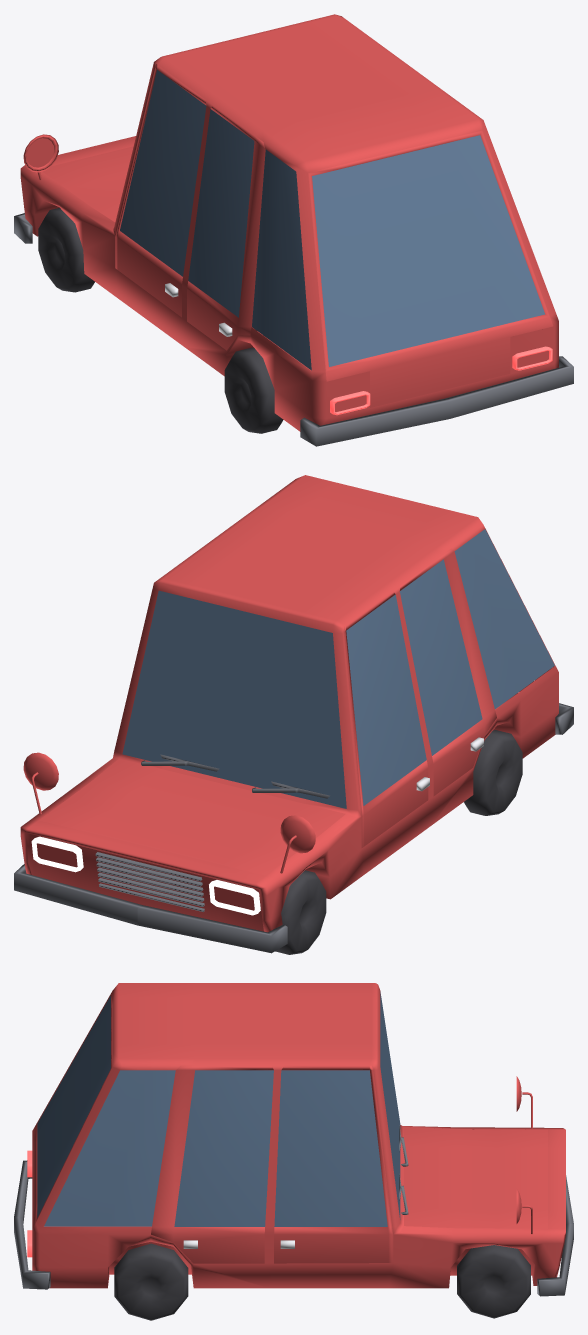
Rendered from cv-estate.glb.
The picture shows the model from 3 angles, top to bottom: view 1: azimuth 30°, elevation 25°; view 2: azimuth 150°, elevation 25°; view 3: azimuth 270°, elevation 25°; orthographic projection. The views are drawn at different scales.
Visible parts, largest first — view 1: CarMesh, WIndow, ID454, Window.3, Window.2, WindowBack, BumperBack, ID373, WheelRL, Hood, ID400, WheelFL (+1 smaller); view 2: CarMesh, WindowFront, Hood, Window.3, Window.2, WindowBack, BumperFront, ID373, Grille, ID400, WheelRL, WheelFL (+6 smaller); view 3: CarMesh, Window.4, Hood, Window, WindowBack, ID346, WIndow, ID427, WheelRR, WheelRR.2, WindowFront, BumperBack (+2 smaller).
Boxes of the visible parts, bbox=[...] form: CarMesh: bbox=[20, 14, 558, 431]; WIndow: bbox=[312, 135, 544, 366]; ID454: bbox=[308, 130, 553, 407]; Window.3: bbox=[120, 70, 206, 276]; Window.2: bbox=[188, 109, 254, 317]; WindowBack: bbox=[252, 149, 311, 370]; BumperBack: bbox=[300, 356, 573, 446]; ID373: bbox=[187, 105, 265, 350]; WheelRL: bbox=[224, 347, 283, 433]; Hood: bbox=[42, 146, 133, 222]; ID400: bbox=[115, 64, 206, 317]; WheelFL: bbox=[38, 207, 94, 292]; CarMesh: bbox=[20, 475, 558, 932]; WindowFront: bbox=[122, 590, 346, 808]; Hood: bbox=[39, 758, 345, 875]; Window.3: bbox=[346, 594, 426, 805]; Window.2: bbox=[400, 559, 482, 755]; WindowBack: bbox=[454, 529, 554, 709]; BumperFront: bbox=[14, 864, 287, 953]; ID373: bbox=[400, 548, 496, 796]; Grille: bbox=[95, 852, 204, 911]; ID400: bbox=[344, 591, 428, 847]; WheelRL: bbox=[464, 730, 522, 815]; WheelFL: bbox=[275, 870, 326, 954]; CarMesh: bbox=[32, 983, 565, 1288]; Window.4: bbox=[274, 1070, 387, 1226]; Hood: bbox=[404, 1127, 547, 1228]; Window: bbox=[174, 1070, 273, 1226]; WindowBack: bbox=[44, 1070, 175, 1226]; ID346: bbox=[151, 1065, 273, 1263]; WIndow: bbox=[37, 995, 110, 1217]; ID427: bbox=[274, 1065, 393, 1263]; WheelRR: bbox=[114, 1243, 188, 1320]; WheelRR.2: bbox=[457, 1245, 530, 1318]; WindowFront: bbox=[380, 991, 400, 1219]; BumperBack: bbox=[14, 1160, 50, 1289].
Bounding box in the file's own units: 2.18 × 1.96 × 4.04.
